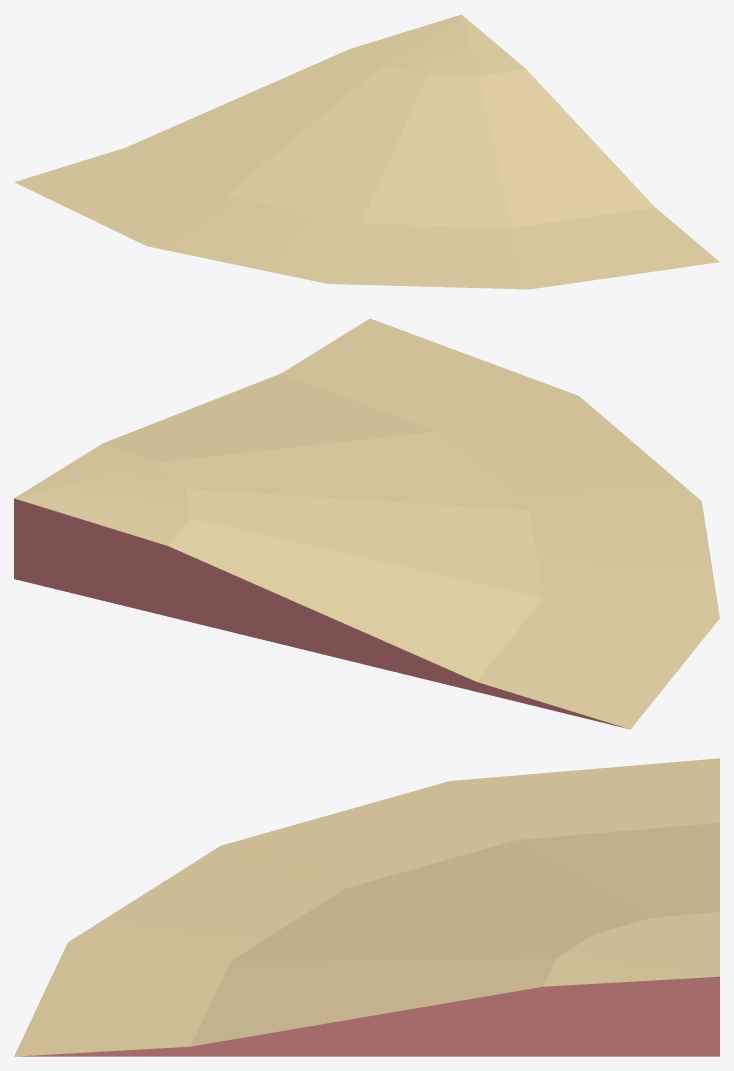
File: Terrain_Sand_Incline_Curve_Outer_4x4.glb
3 views of the same model, one above another, from view 1: azimuth 30°, elevation 25°; view 2: azimuth 150°, elevation 25°; view 3: azimuth 270°, elevation 25° (orthographic). The views are drawn at different scales.
Visible parts, largest first — view 1: Terrain_Sand_Incline_Curve_Outer_4x4; view 2: Terrain_Sand_Incline_Curve_Outer_4x4; view 3: Terrain_Sand_Incline_Curve_Outer_4x4.
Part boxes in pixels (x1,y1,x2,y2): Terrain_Sand_Incline_Curve_Outer_4x4: (14,14,719,289); Terrain_Sand_Incline_Curve_Outer_4x4: (14,318,719,729); Terrain_Sand_Incline_Curve_Outer_4x4: (14,758,719,1056).
Size of the model in its own units: 400 by 50 by 400.
